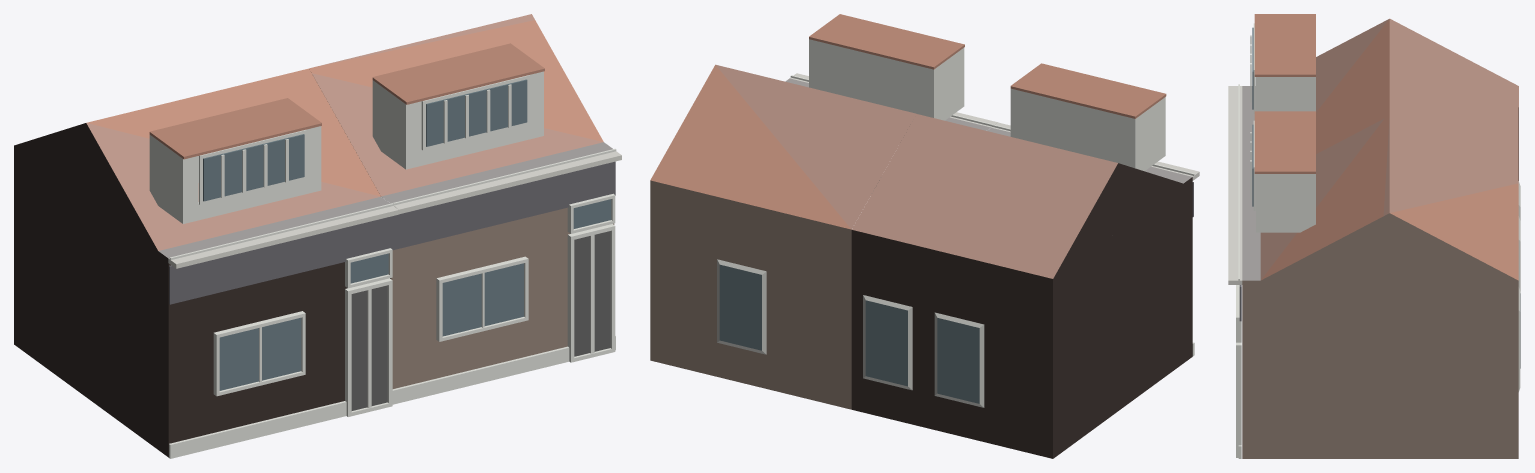
Rendered from chunk-face-vogelplantsoen-8-12-r1.glb.
3 views of the same model, side by side, from view 1: azimuth 30°, elevation 25°; view 2: azimuth 150°, elevation 25°; view 3: azimuth 270°, elevation 25° (orthographic). The views are drawn at different scales.
Parts seen in each view (by area): view 1: face-vogelplantsoen-8-12-r1; view 2: face-vogelplantsoen-8-12-r1; view 3: face-vogelplantsoen-8-12-r1.
Part boxes in pixels (x1,y1,x2,y2): face-vogelplantsoen-8-12-r1: [14, 14, 621, 458]; face-vogelplantsoen-8-12-r1: [650, 14, 1199, 458]; face-vogelplantsoen-8-12-r1: [1228, 14, 1520, 458].
Bounding box in the file's own units: 10 × 6.23 × 6.34.
